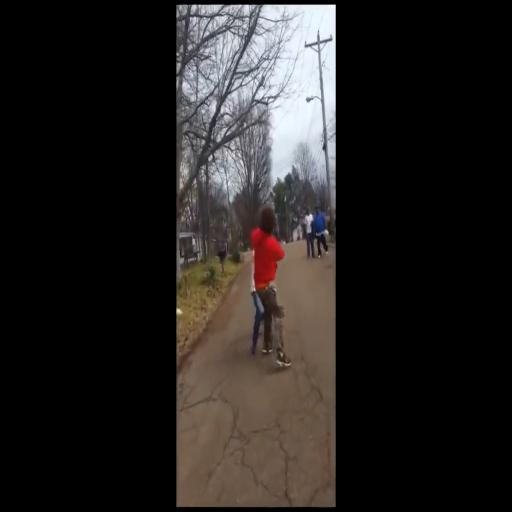violencia: (236, 198, 298, 374)
